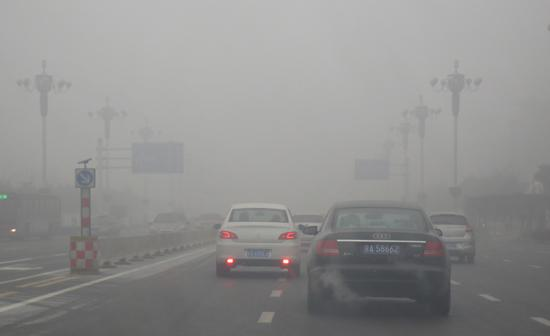bus: (1, 190, 62, 242)
car: (302, 201, 451, 320), (213, 203, 306, 280), (418, 211, 476, 264), (284, 213, 330, 255), (148, 211, 190, 243), (188, 212, 226, 243), (86, 215, 122, 238)
